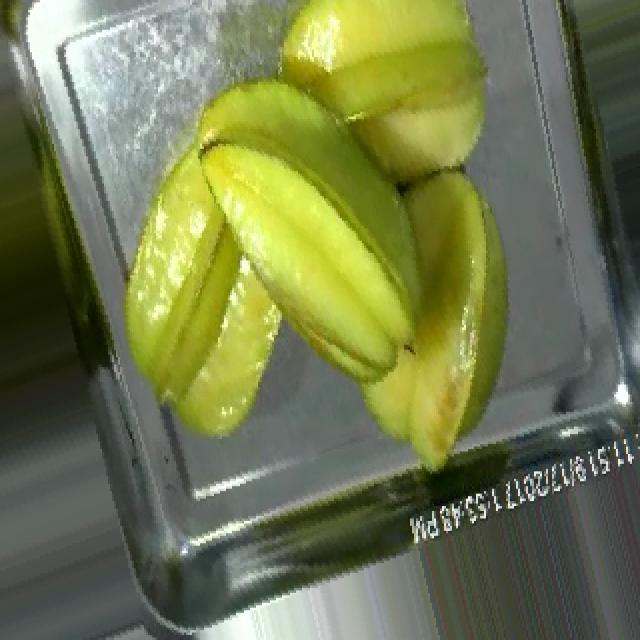fruit: (240, 136, 554, 496), (76, 116, 326, 464), (244, 0, 522, 214), (380, 449, 640, 640)
